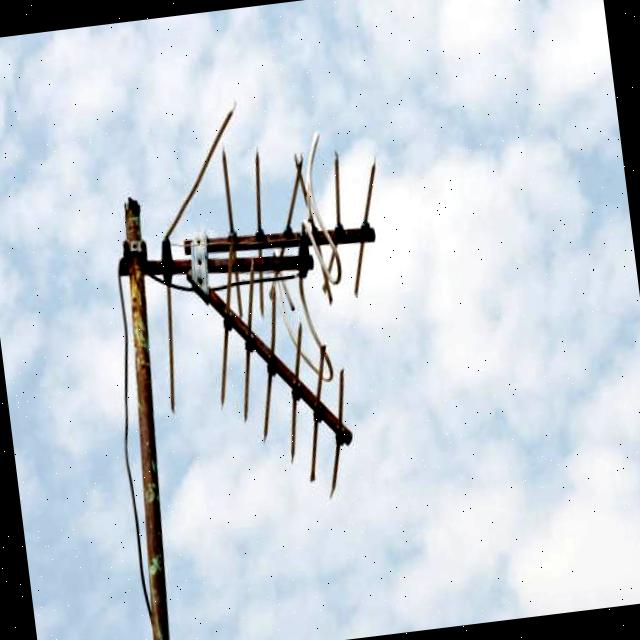Broken Pole: (61, 45, 516, 640)
